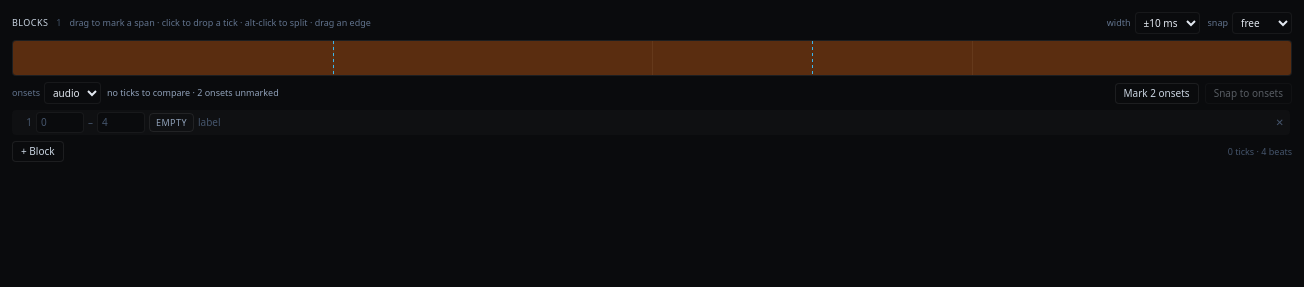
Scenario: BoundarySegmentEditor › reports a node of markers as sitting on the onsets, 10 ms early
Click the button "Mark 2 onsets".
click(1157, 93)  # box [1114, 82, 1199, 104]
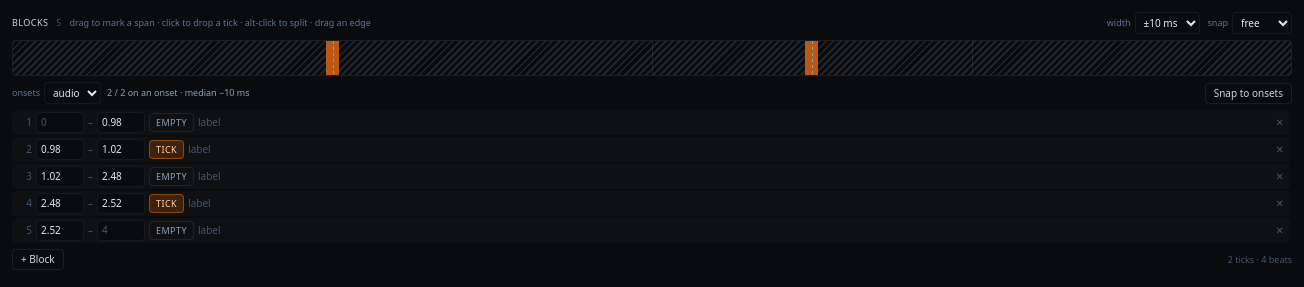
Result: the text "2 / 2 on an onset · median −10 ms" is shown at [107, 86, 250, 100]
Result: the button "Mark 2 onsets" is gone
